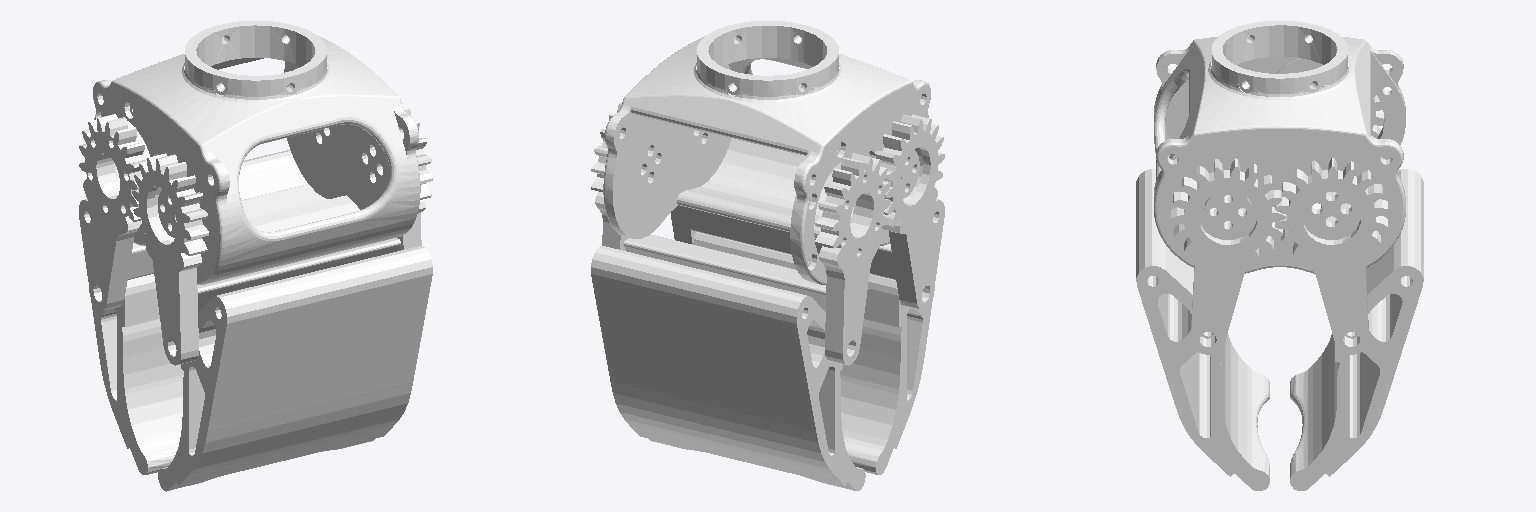
robot.urdf — jiazhua_urdf2:
<?xml version="1.0" encoding="utf-8"?>
<!-- This URDF was automatically created by SolidWorks to URDF Exporter! Originally created by Stephen Brawner (brawner@gmail.com) 
     Commit Version:   Build Version: 1.6.9404.24691
     For more information, please see http://wiki.ros.org/sw_urdf_exporter -->
<robot
  name="jiazhua_urdf2">
  <link
    name="clipbase_link">
    <inertial>
      <origin
        xyz="0.0017041916547132 -0.00762519809747314 -0.0362075585869269"
        rpy="0 0 0" />
      <mass
        value="0.0676692041651645" />
      <inertia
        ixx="6.64880974311512E-05"
        ixy="-3.33827335993242E-06"
        ixz="9.22793660597642E-07"
        iyy="8.93025026766509E-05"
        iyz="-8.48270262664675E-06"
        izz="9.32107436558072E-05" />
    </inertial>
    <visual>
      <origin
        xyz="0 0 0"
        rpy="0 0 0" />
      <geometry>
        <mesh
          filename="../meshes/clipbase_link.STL" />
      </geometry>
      <material
        name="">
        <color
          rgba="1 1 1 1" />
      </material>
    </visual>
    <collision>
      <origin
        xyz="0 0 0"
        rpy="0 0 0" />
      <geometry>
        <mesh
          filename="../meshes/clipbase_link.STL" />
      </geometry>
    </collision>
  </link>
  <link
    name="joint_Link1_1">
    <inertial>
      <origin
        xyz="-0.0469999999999999 -0.00221829279696126 -0.0206018229287681"
        rpy="0 0 0" />
      <mass
        value="0.0244077119794162" />
      <inertia
        ixx="8.41738468746048E-06"
        ixy="-7.20717045982256E-20"
        ixz="-2.4478182211345E-20"
        iyy="4.11427914460887E-05"
        iyz="-6.14640656473007E-07"
        izz="3.53271997001674E-05" />
    </inertial>
    <visual>
      <origin
        xyz="0 0 0"
        rpy="0 0 0" />
      <geometry>
        <mesh
          filename="../meshes/joint_Link1_1.STL" />
      </geometry>
      <material
        name="">
        <color
          rgba="1 1 1 1" />
      </material>
    </visual>
    <collision>
      <origin
        xyz="0 0 0"
        rpy="0 0 0" />
      <geometry>
        <mesh
          filename="../meshes/joint_Link1_1.STL" />
      </geometry>
    </collision>
  </link>
  <joint
    name="joint1_1"
    type="continuous">
    <origin
      xyz="0.0470000000004201 -0.0179999999999996 -0.0430000000000004"
      rpy="0 0 0" />
    <parent
      link="clipbase_link" />
    <child
      link="joint_Link1_1" />
    <axis
      xyz="1 0 0" />
  </joint>
  <link
    name="joint_link1_2">
    <inertial>
      <origin
        xyz="-0.040000085193751 -0.00467243457510313 -0.014926733171431"
        rpy="0 0 0" />
      <mass
        value="0.0825284444858284" />
      <inertia
        ixx="5.41860484254742E-05"
        ixy="2.89276065305899E-10"
        ixz="-2.33001188350262E-10"
        iyy="9.03390765290082E-05"
        iyz="1.44288701552262E-05"
        izz="5.312044195443E-05" />
    </inertial>
    <visual>
      <origin
        xyz="0 0 0"
        rpy="0 0 0" />
      <geometry>
        <mesh
          filename="../meshes/joint_link1_2.STL" />
      </geometry>
      <material
        name="">
        <color
          rgba="1 1 1 1" />
      </material>
    </visual>
    <collision>
      <origin
        xyz="0 0 0"
        rpy="0 0 0" />
      <geometry>
        <mesh
          filename="../meshes/joint_link1_2.STL" />
      </geometry>
    </collision>
  </link>
  <joint
    name="joint1_2"
    type="continuous">
    <origin
      xyz="-0.00700000000000021 -0.00699839115061319 -0.0464760424445006"
      rpy="0 0 0" />
    <parent
      link="joint_Link1_1" />
    <child
      link="joint_link1_2" />
    <axis
      xyz="1 0 0" />
  </joint>
  <link
    name="joint_link2_1">
    <inertial>
      <origin
        xyz="-0.0485960536054622 0.00211622565597695 -0.0196104169087913"
        rpy="0 0 0" />
      <mass
        value="0.0249594770057966" />
      <inertia
        ixx="8.86950054344845E-06"
        ixy="-8.43033688511499E-08"
        ixz="7.81213574892621E-07"
        iyy="4.33222607704765E-05"
        iyz="6.50941482895063E-07"
        izz="3.71765340092315E-05" />
    </inertial>
    <visual>
      <origin
        xyz="0 0 0"
        rpy="0 0 0" />
      <geometry>
        <mesh
          filename="../meshes/joint_link2_1.STL" />
      </geometry>
      <material
        name="">
        <color
          rgba="1 1 1 1" />
      </material>
    </visual>
    <collision>
      <origin
        xyz="0 0 0"
        rpy="0 0 0" />
      <geometry>
        <mesh
          filename="../meshes/joint_link2_1.STL" />
      </geometry>
    </collision>
  </link>
  <joint
    name="joint2_1"
    type="continuous">
    <origin
      xyz="0.0470000000004201 0.0179999999999995 -0.0430000000000001"
      rpy="0 0 0" />
    <parent
      link="clipbase_link" />
    <child
      link="joint_link2_1" />
    <axis
      xyz="1 0 0" />
  </joint>
  <link
    name="joint_link2_2">
    <inertial>
      <origin
        xyz="-0.039999914806249 0.00467243457510296 -0.014926733171431"
        rpy="0 0 0" />
      <mass
        value="0.0825284444858284" />
      <inertia
        ixx="5.41860484254742E-05"
        ixy="2.89276065349933E-10"
        ixz="2.3300118834262E-10"
        iyy="9.03390765290083E-05"
        iyz="-1.44288701552263E-05"
        izz="5.31204419544301E-05" />
    </inertial>
    <visual>
      <origin
        xyz="0 0 0"
        rpy="0 0 0" />
      <geometry>
        <mesh
          filename="../meshes/joint_link2_2.STL" />
      </geometry>
      <material
        name="">
        <color
          rgba="1 1 1 1" />
      </material>
    </visual>
    <collision>
      <origin
        xyz="0 0 0"
        rpy="0 0 0" />
      <geometry>
        <mesh
          filename="../meshes/joint_link2_2.STL" />
      </geometry>
    </collision>
  </link>
  <joint
    name="joint2_2"
    type="continuous">
    <origin
      xyz="-0.00700000000000003 0.00704396779938812 -0.0464691566271775"
      rpy="0 0 0" />
    <parent
      link="joint_link2_1" />
    <child
      link="joint_link2_2" />
    <axis
      xyz="1 0 0" />
  </joint>
</robot>

--- Facts derived from the render (not from the file) ---
Views: 3 orthographic renders of the robot side by side, from view 1: azimuth 30°, elevation 25°; view 2: azimuth 150°, elevation 25°; view 3: azimuth 270°, elevation 25°.
Robot: jiazhua_urdf2 — 5 links, 4 joints (4 continuous); root link clipbase_link; default pose: all joints at 0.
Links seen in each view (by area): view 1: clipbase_link, joint_link1_2, joint_link2_2, joint_Link1_1, joint_link2_1; view 2: clipbase_link, joint_link2_2, joint_link2_1, joint_link1_2, joint_Link1_1; view 3: clipbase_link, joint_link2_2, joint_link1_2, joint_link2_1, joint_Link1_1.
Boxes of the visible links, box(x1,y1,x2,y2) form: clipbase_link: box(93, 21, 420, 284); joint_link1_2: box(158, 246, 432, 491); joint_link2_2: box(79, 150, 307, 474); joint_Link1_1: box(132, 107, 432, 365); joint_link2_1: box(79, 114, 328, 310); clipbase_link: box(603, 21, 930, 284); joint_link2_2: box(591, 246, 865, 490); joint_link2_1: box(591, 103, 891, 365); joint_link1_2: box(693, 199, 944, 474); joint_Link1_1: box(671, 114, 944, 310); clipbase_link: box(1154, 21, 1405, 273); joint_link2_2: box(1290, 169, 1423, 490); joint_link1_2: box(1136, 169, 1269, 490); joint_link2_1: box(1275, 83, 1388, 354); joint_Link1_1: box(1171, 158, 1285, 354).
Size in the robot's own frame: 0.094 by 0.1001 by 0.1511 metres.
5 mesh visuals loaded from 5 distinct referenced files (5 binary STL).
